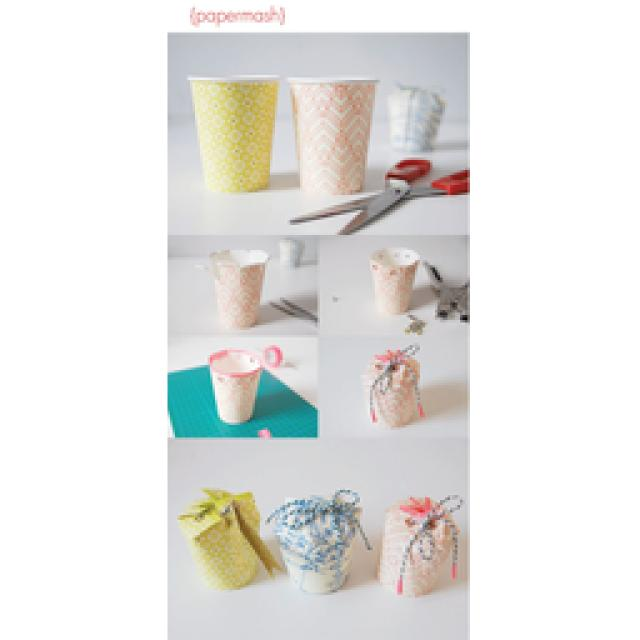paper_cups: (283, 72, 379, 200), (186, 70, 282, 190), (210, 251, 269, 333), (208, 348, 261, 424), (370, 244, 421, 314)
